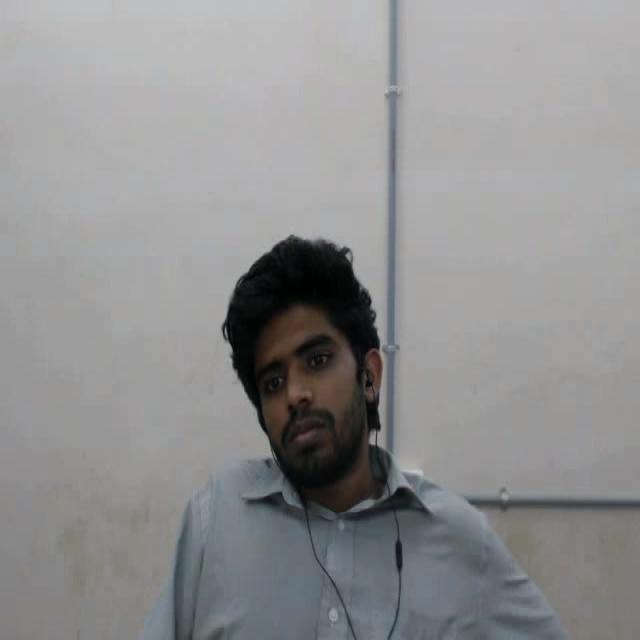Engaged: (205, 222, 419, 542)
